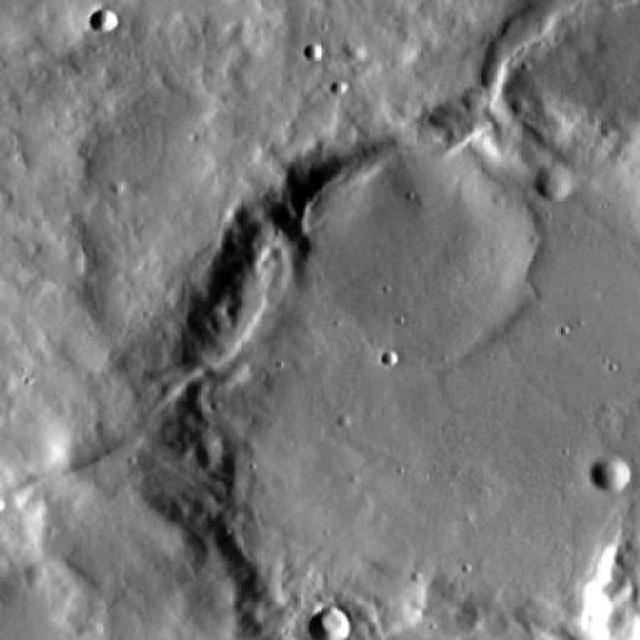crater: (180, 106, 640, 640), (292, 152, 534, 371), (532, 168, 570, 202), (306, 610, 348, 639), (598, 460, 631, 494), (88, 11, 117, 37), (307, 42, 327, 58)
